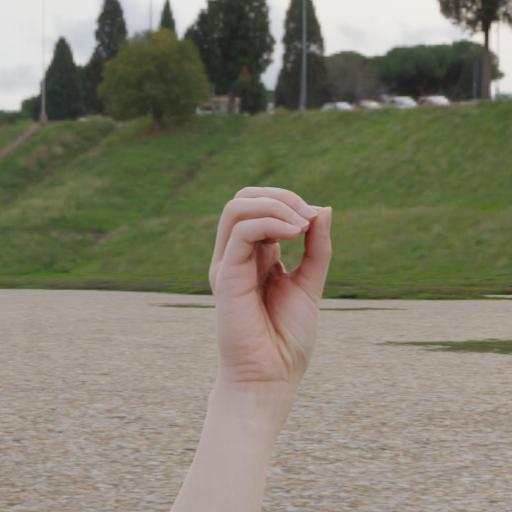O: (197, 178, 346, 422)
